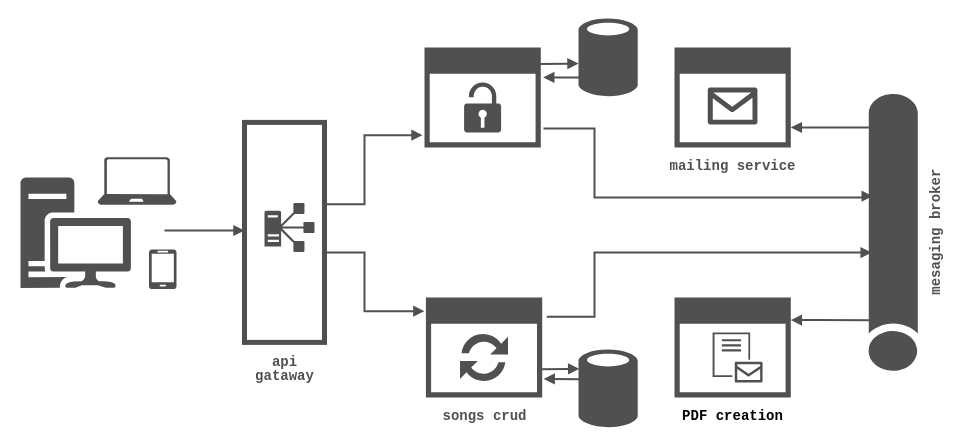
Image size: 968x446. Some labels were removed from this diagram. The box of each missing label's shape, as (x1, y1, x2, y2) in pixels:
authentication (registration / logging in): (424, 47, 540, 147)
clients: (20, 177, 130, 288)
